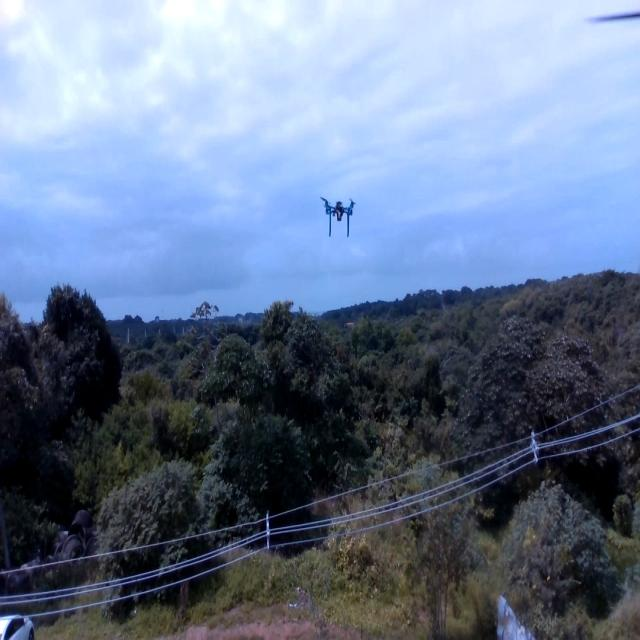-uav-: (316, 186, 360, 245)
